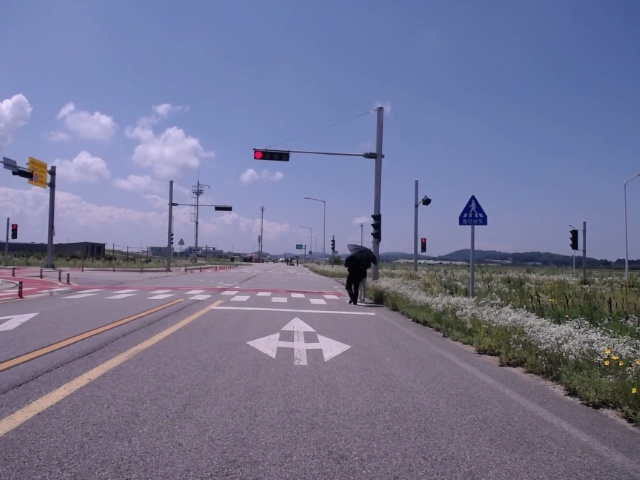red_4: (254, 151, 289, 161)
